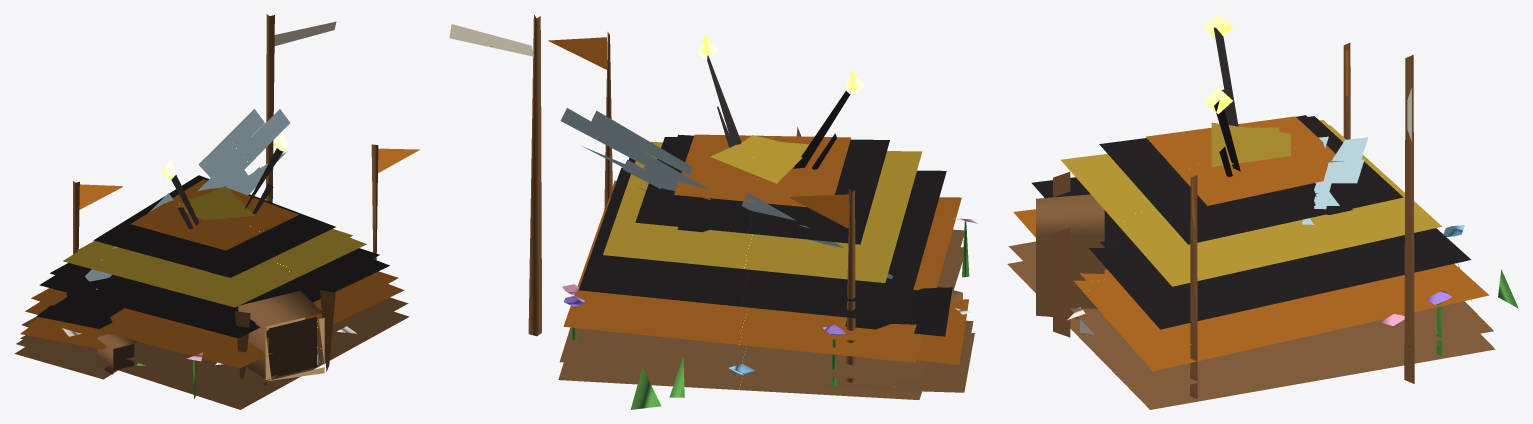
Rendered from bumblebee-burrow-blocky_lod2.glb.
The picture shows the model from 3 angles, left to right: view 1: azimuth 30°, elevation 25°; view 2: azimuth 150°, elevation 25°; view 3: azimuth 270°, elevation 25°; orthographic projection. The views are drawn at different scales.
Visible parts, largest first — view 1: lv3, lv2; view 2: lv3, lv2; view 3: lv3, lv2.
Boxes of the visible parts, x1,y1,x2,y2 form: lv3: (14, 14, 419, 409); lv2: (73, 167, 356, 395); lv3: (449, 14, 977, 409); lv2: (562, 106, 894, 397); lv3: (1007, 14, 1518, 409); lv2: (1067, 43, 1471, 392).
Bounding box in the file's own units: 1.96 × 1.27 × 1.78.
